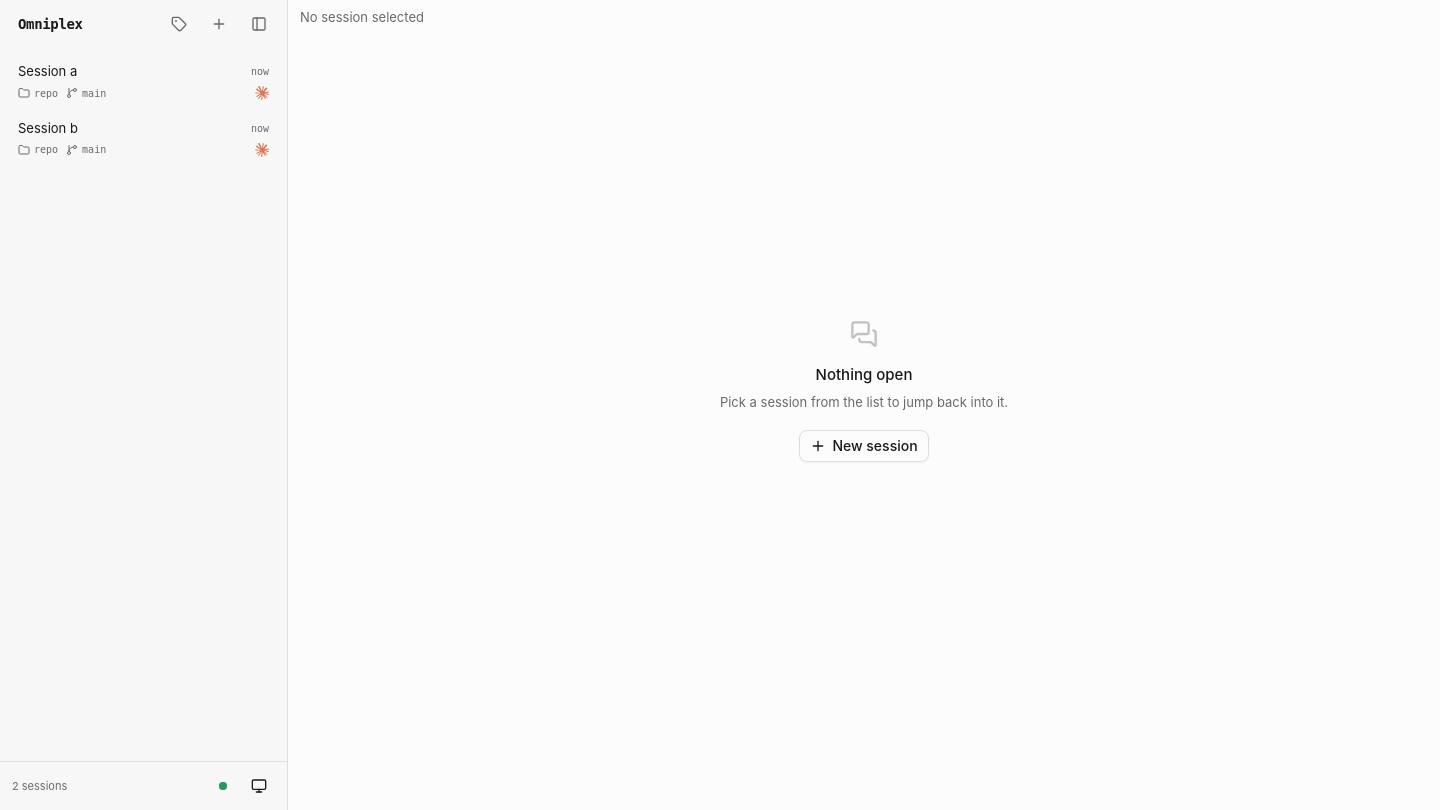
Test: composer drafts › keeps a half-typed message when you switch away and come back
Click the text "Session a": {"x": 48, "y": 71} left=18, top=63, right=77, bottom=79
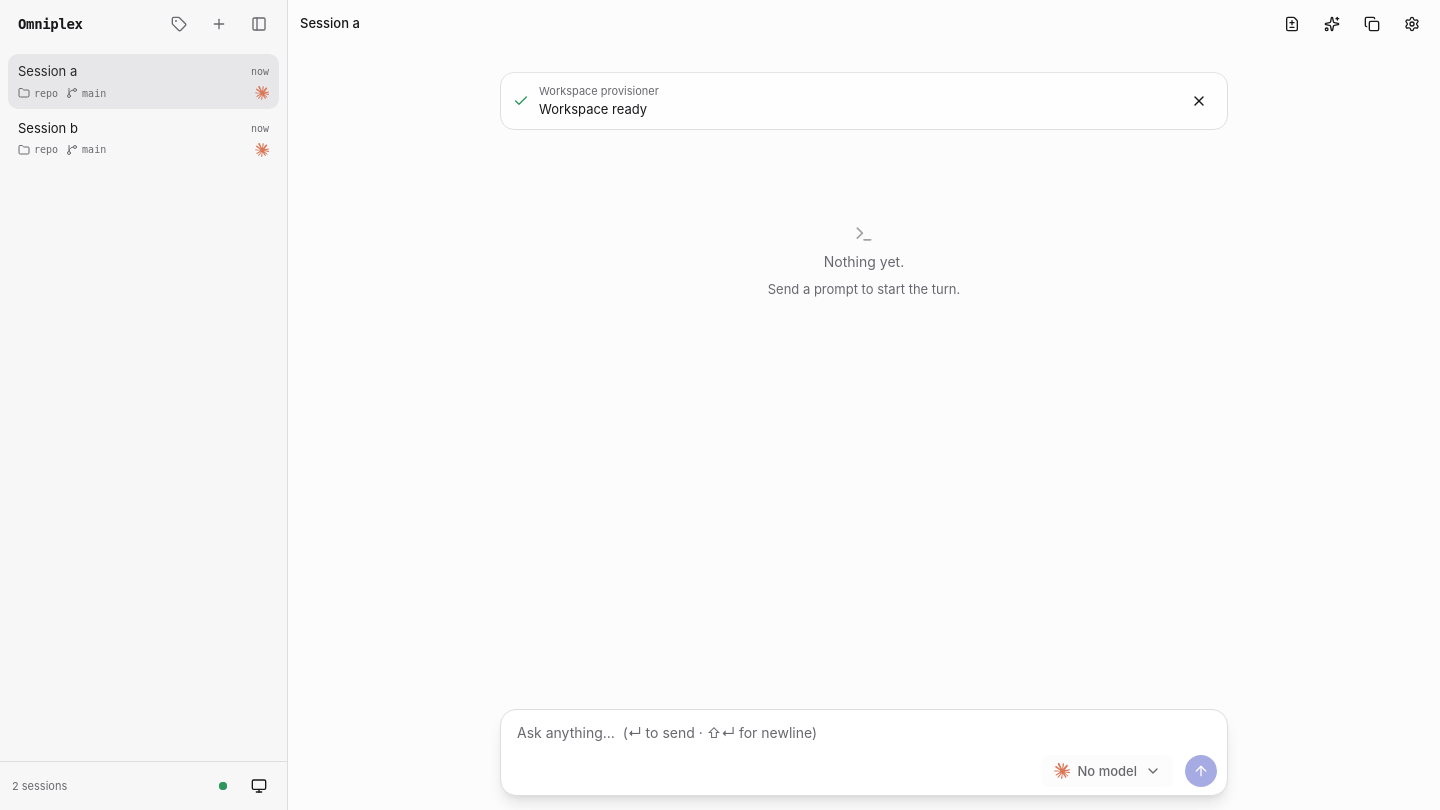
In the text box named "Message": {"x": 864, "y": 730} left=501, top=710, right=1227, bottom=749, type "draft for a"
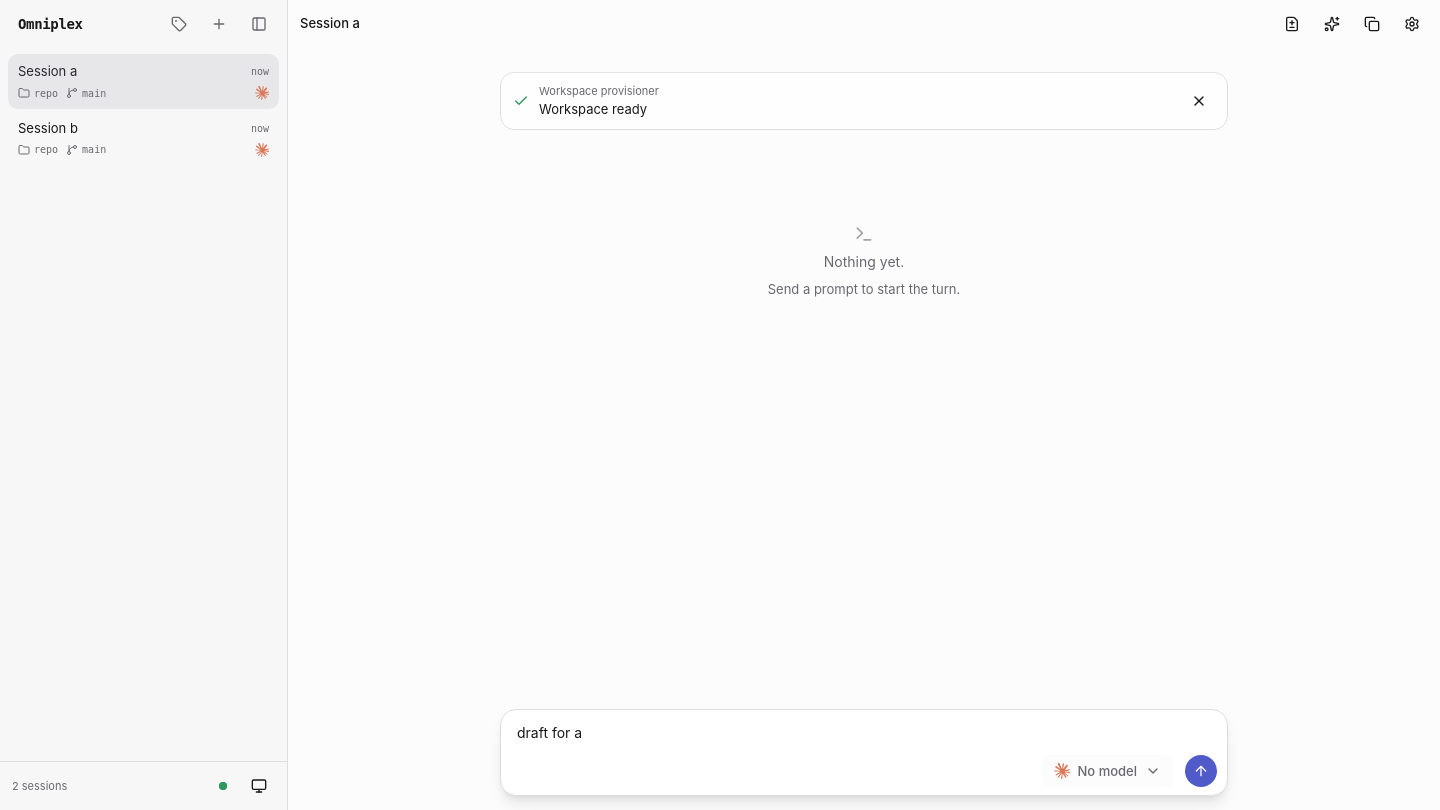
Click the text "Session b": {"x": 48, "y": 128} left=18, top=120, right=78, bottom=136
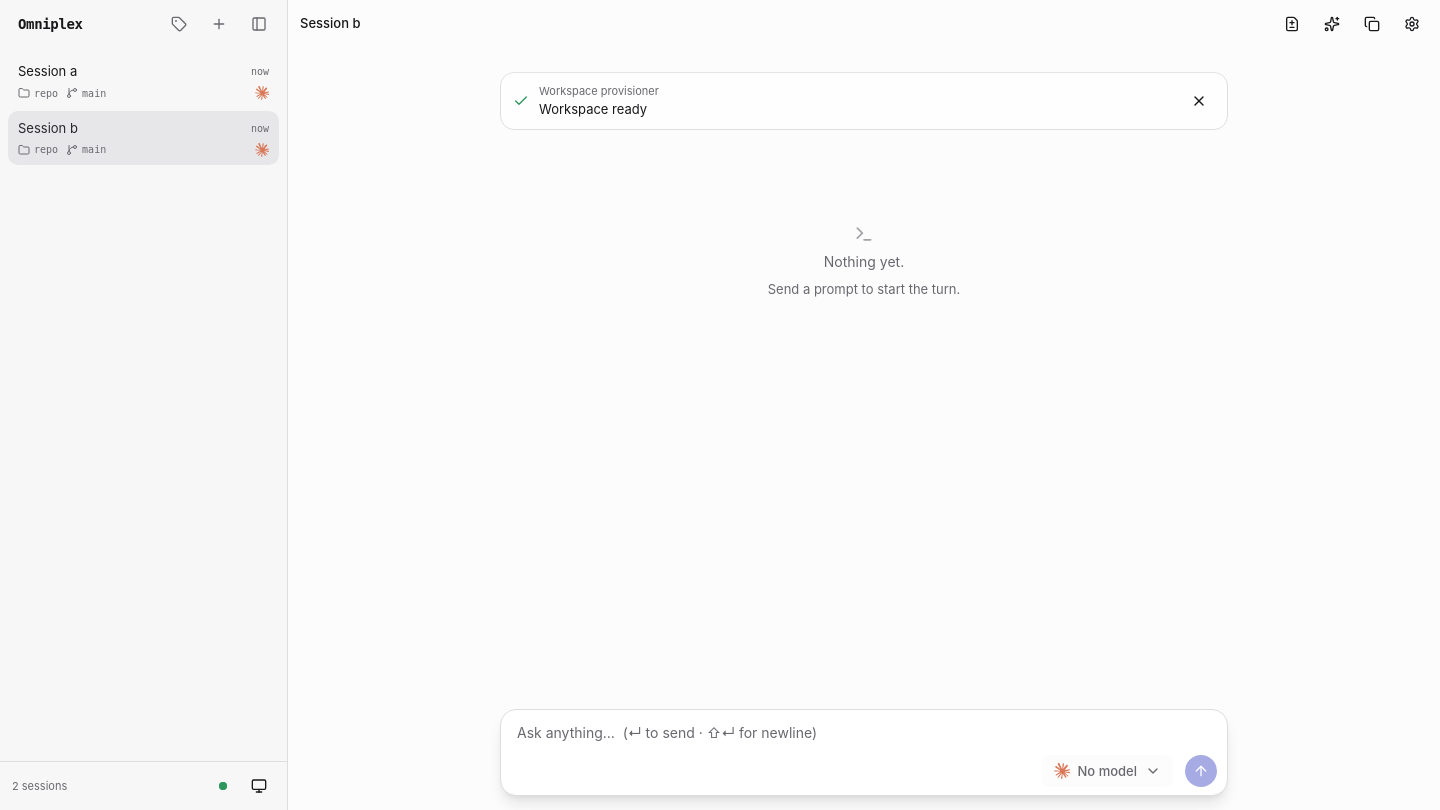
Check: the text box named "Message" is empty, box left=501, top=710, right=1227, bottom=749
Click the text "Session a": {"x": 48, "y": 71} left=18, top=63, right=77, bottom=79
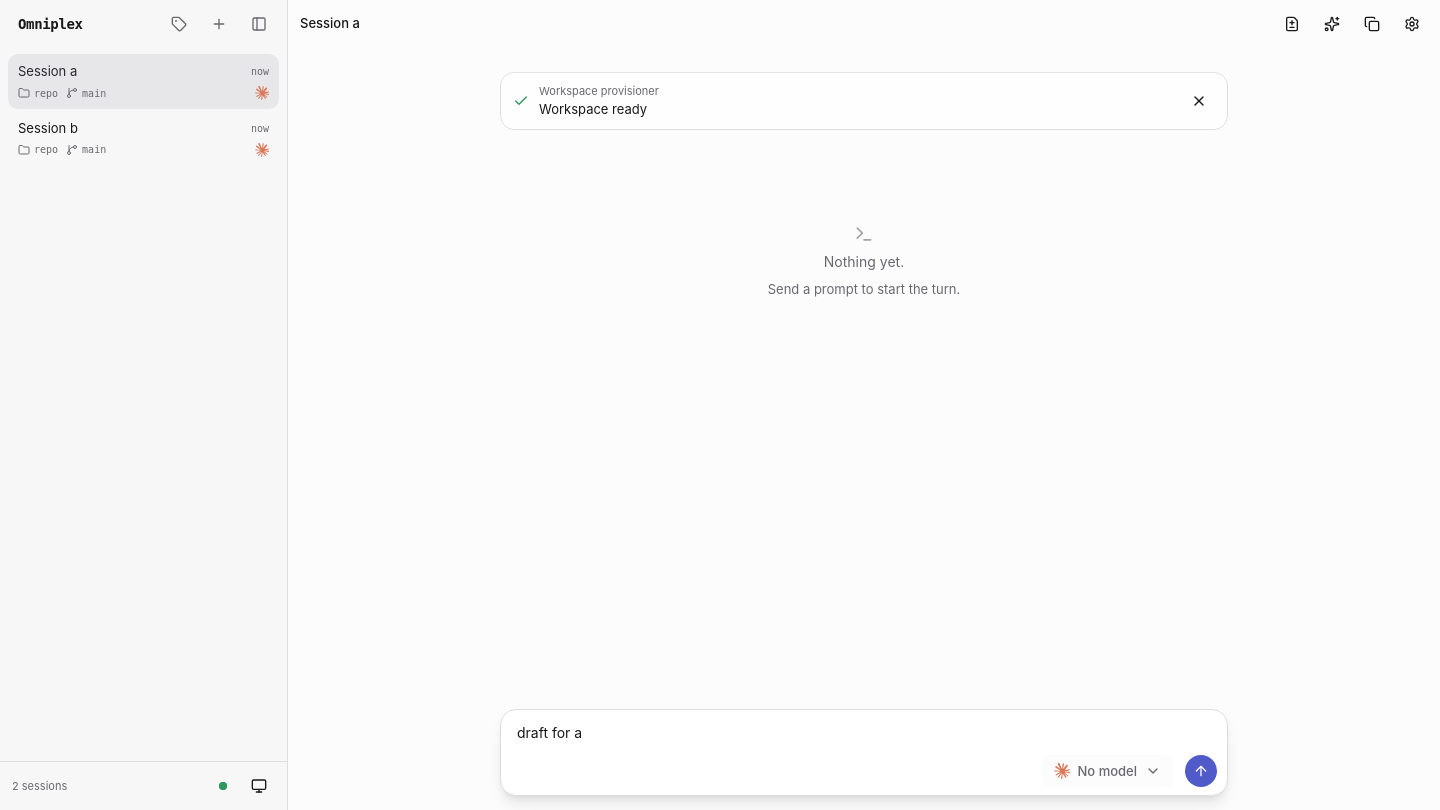
Check: the text box named "Message" holds "draft for a", box left=501, top=710, right=1227, bottom=749
